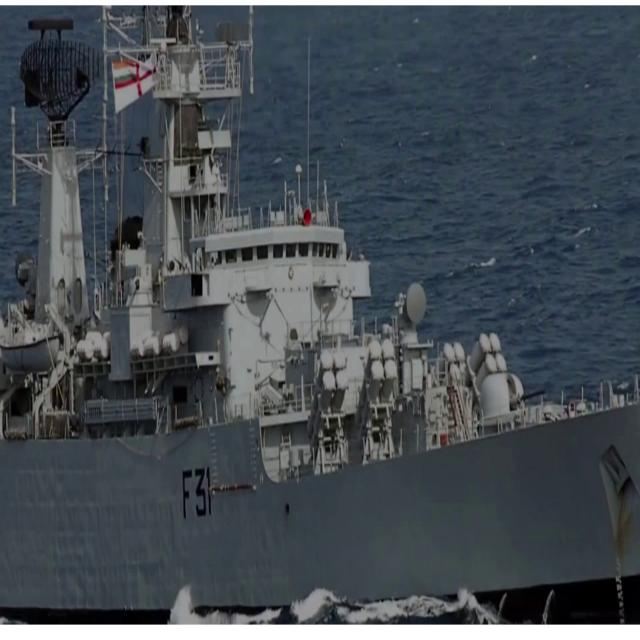OCR: (180, 463, 212, 523)
